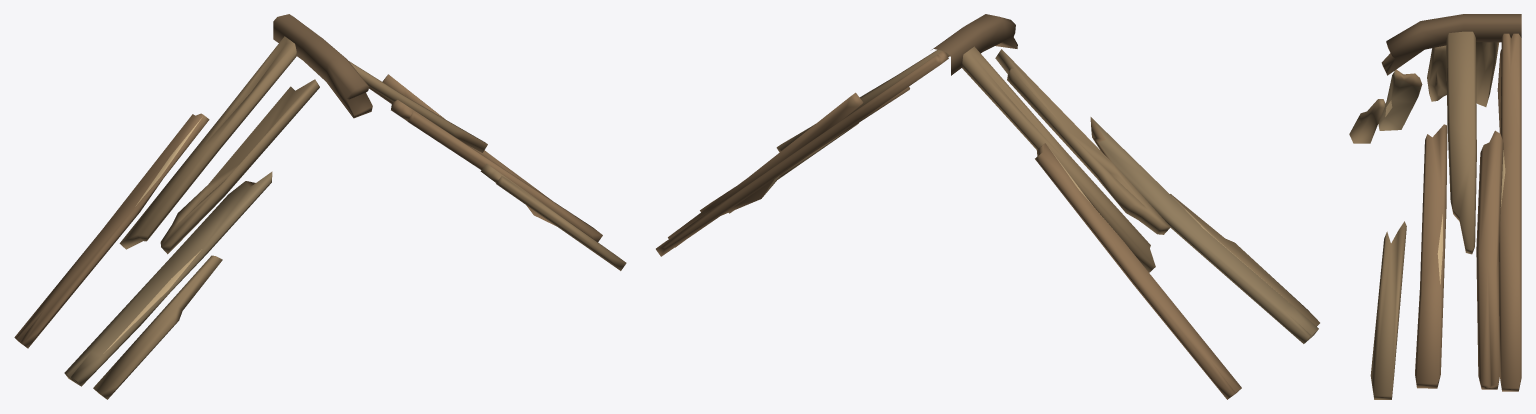
The model's file is rpgpp_av_roof_02_9x4x3_c.gltf.
3 renders of one model, left to right at view 1: azimuth 30°, elevation 25°; view 2: azimuth 150°, elevation 25°; view 3: azimuth 270°, elevation 25°, orthographic. The views are drawn at different scales.
Visible parts, largest first — view 1: rpgpp_av_roof_02_9x4x3_c; view 2: rpgpp_av_roof_02_9x4x3_c; view 3: rpgpp_av_roof_02_9x4x3_c.
Part boxes in pixels (bbox=[...]): rpgpp_av_roof_02_9x4x3_c: bbox=[14, 14, 626, 399]; rpgpp_av_roof_02_9x4x3_c: bbox=[656, 14, 1319, 399]; rpgpp_av_roof_02_9x4x3_c: bbox=[1349, 14, 1521, 399].
Bounding box in the file's own units: 0.1076 × 0.0496 × 0.03.
1 material, 1 textured.
